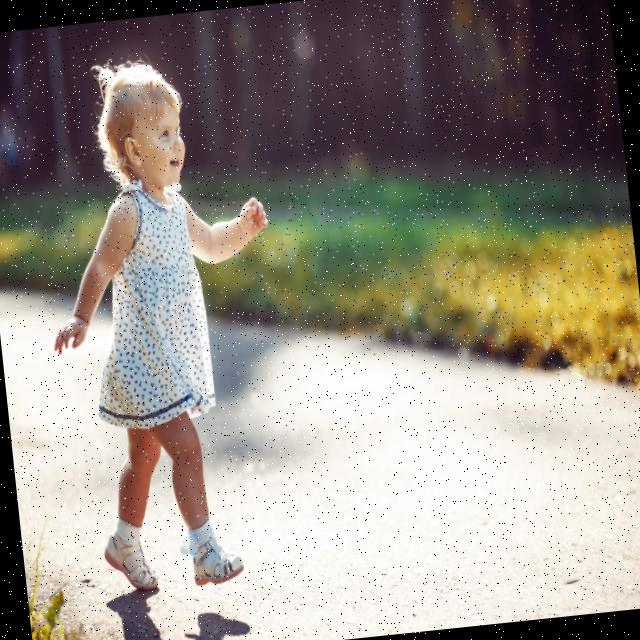Person: (24, 51, 304, 600)
